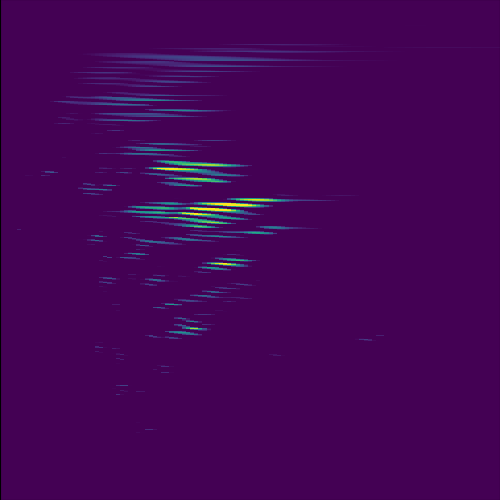semblance: (169, 194, 285, 230), (147, 159, 244, 191)
